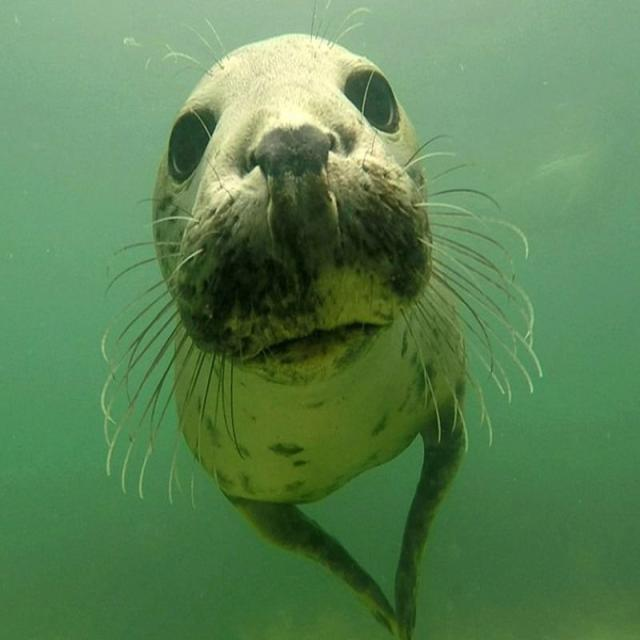seal: (101, 34, 542, 639)
